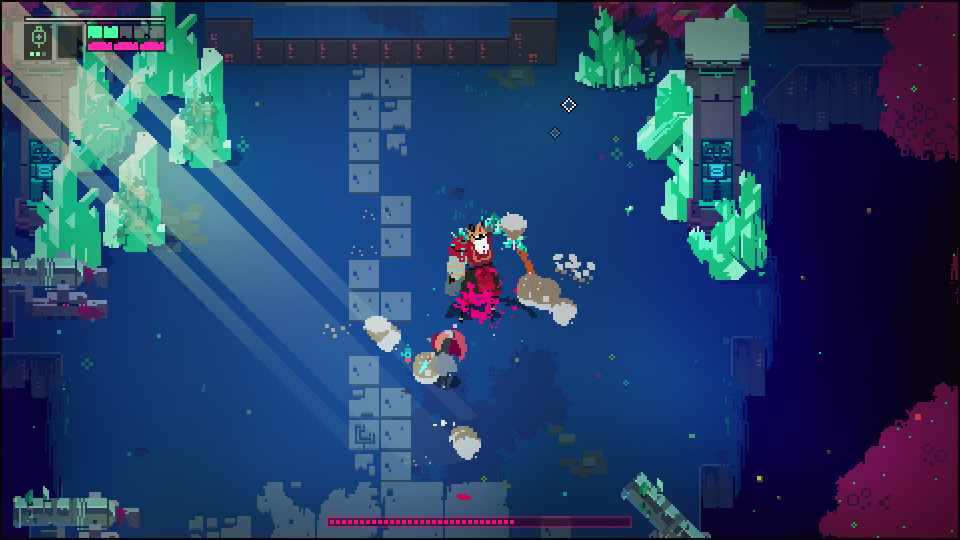hanged_man: (440, 212, 541, 317)
player: (416, 325, 467, 385)
